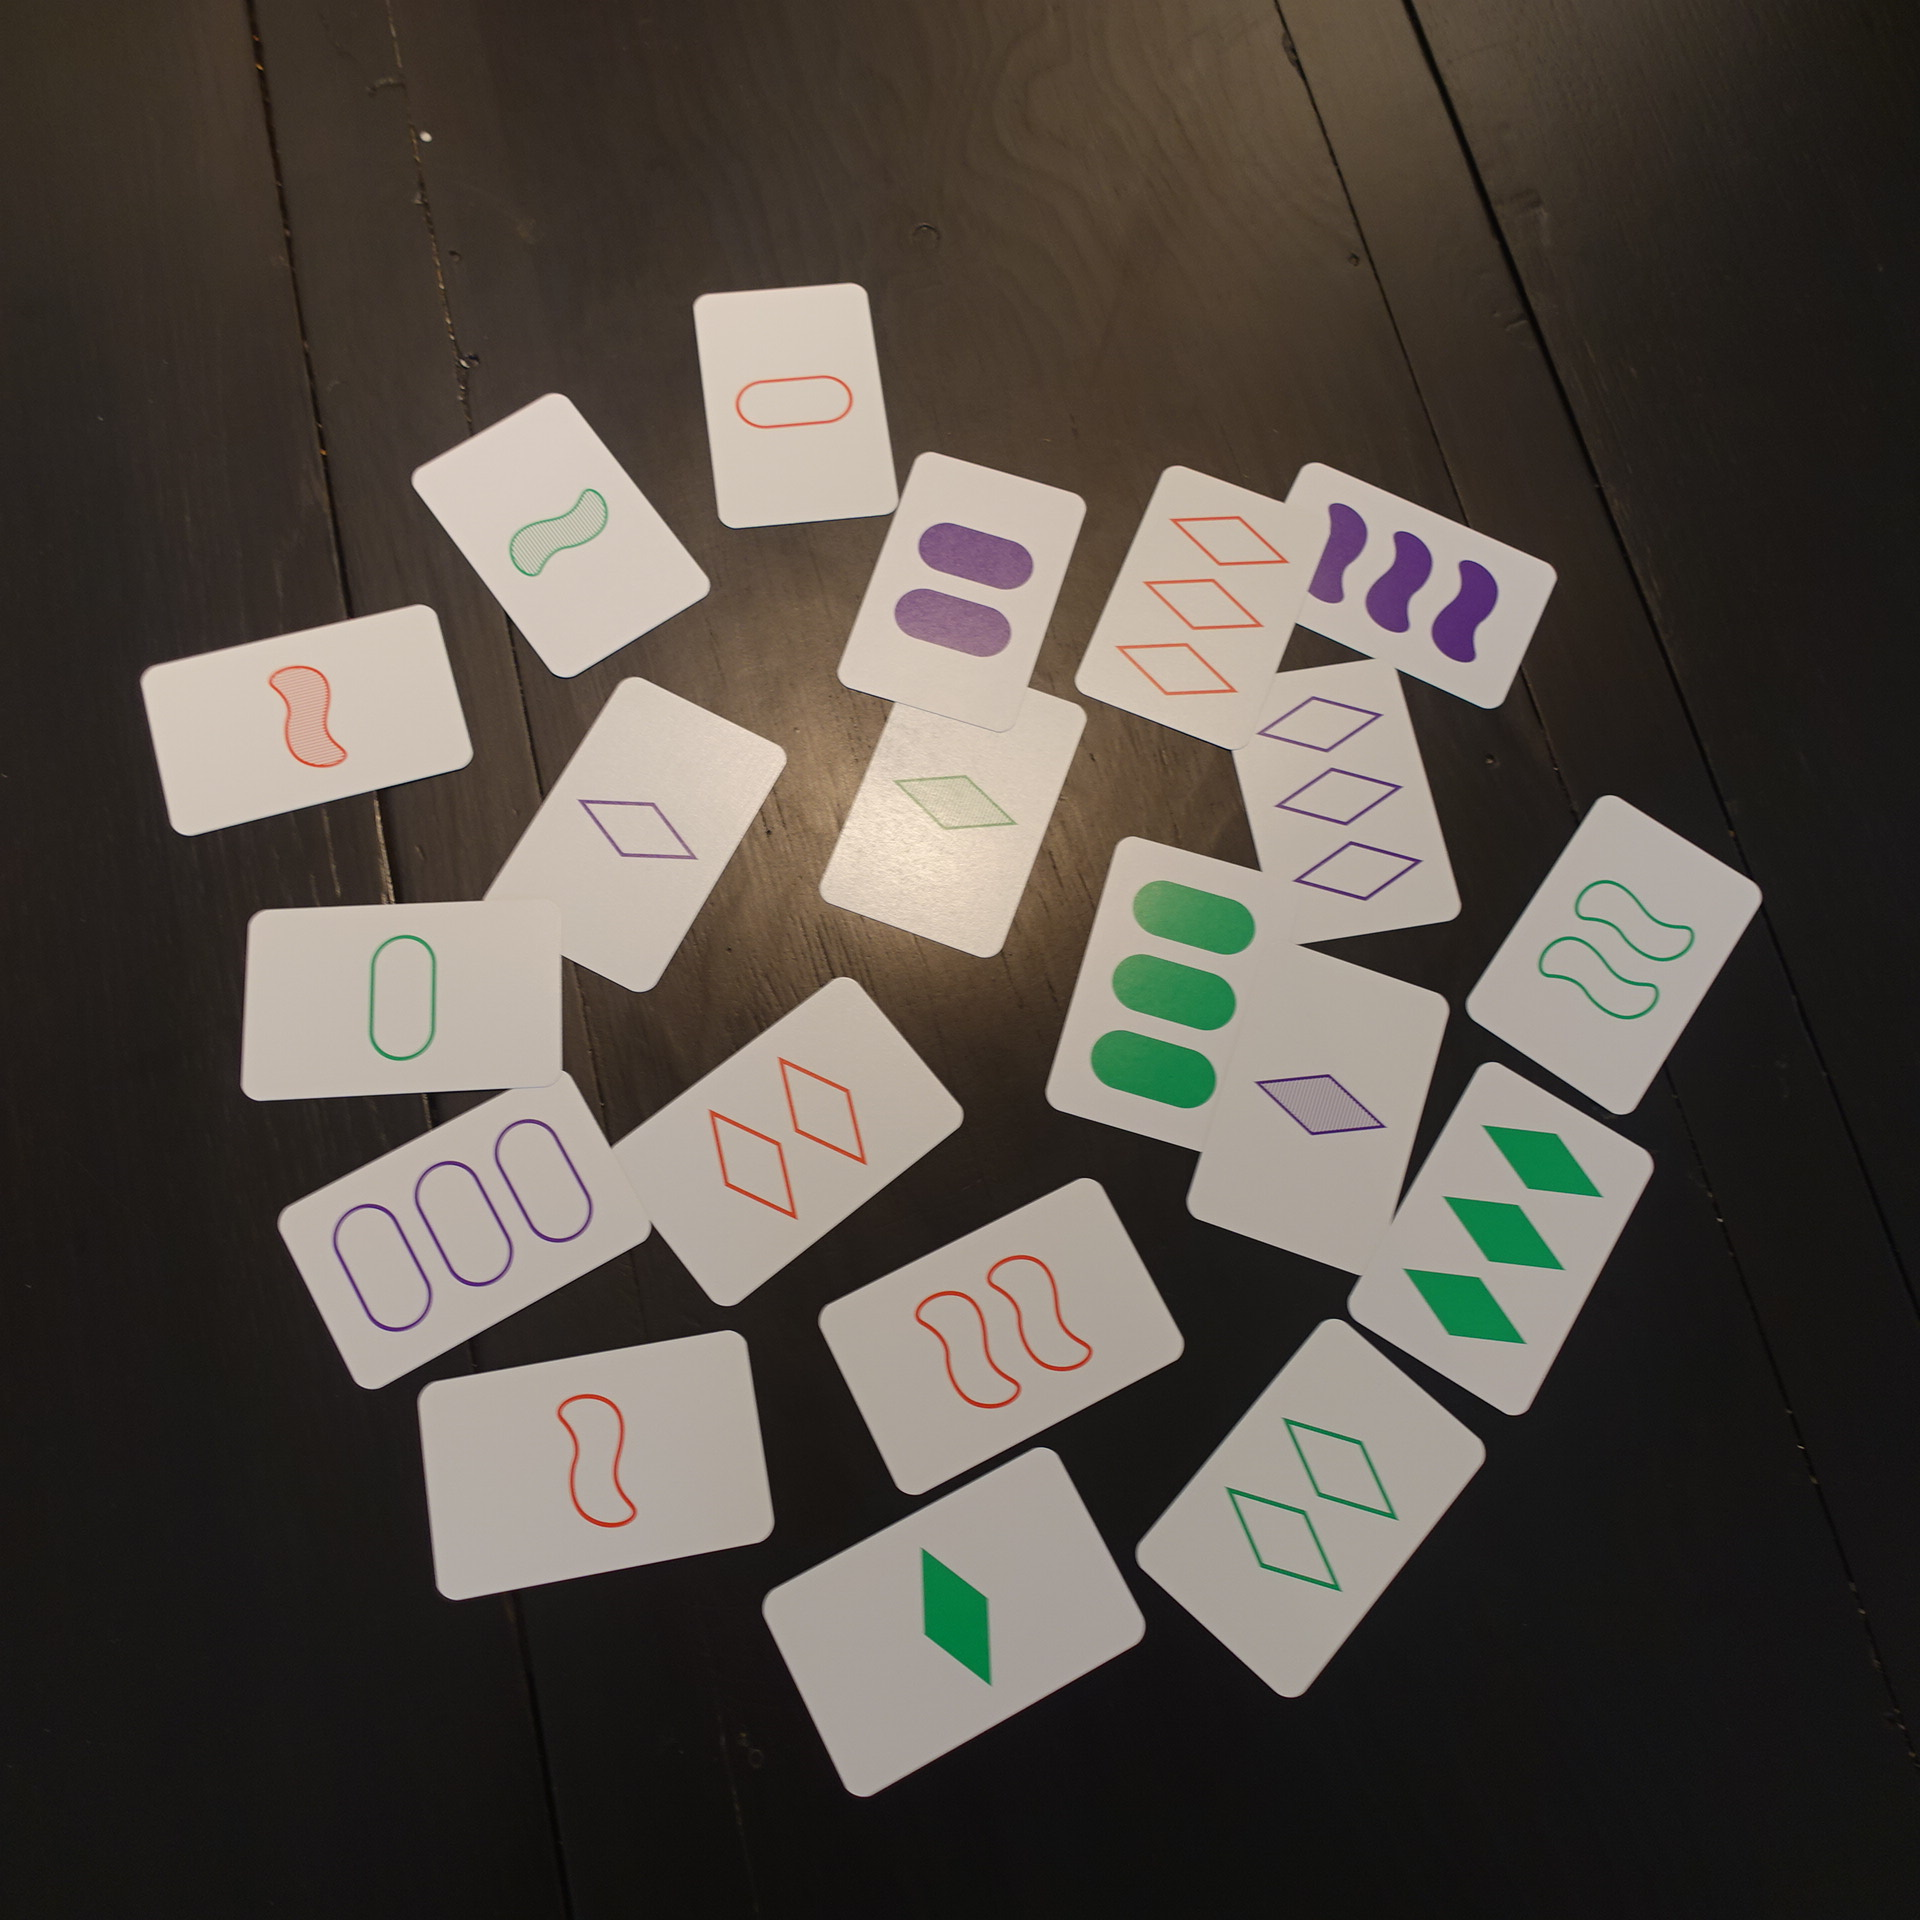c-1-f-d-r: (756, 1438, 1159, 1811)
c-1-h-d-r: (1183, 937, 1459, 1282), (812, 658, 1095, 967)
c-1-h-s-r: (401, 383, 723, 686), (132, 596, 480, 849)
c-1-u-d-r: (466, 668, 791, 1002)
c-1-u-o-r: (209, 891, 573, 1111), (673, 273, 905, 536)
c-1-u-s-r: (404, 1319, 782, 1605)
c-2-f-o-r: (828, 445, 1092, 740)
c-2-u-d-r: (1125, 1306, 1493, 1714), (596, 971, 979, 1320)
c-2-u-s-r: (809, 1169, 1194, 1505), (1452, 781, 1774, 1124)
c-3-f-d-r: (1336, 1051, 1667, 1428)
c-3-f-o-r: (1044, 826, 1312, 1162)
c-3-f-s-r: (1252, 454, 1565, 719)
c-3-u-d-r: (1069, 457, 1336, 761), (1199, 651, 1468, 951)
c-3-u-o-r: (267, 1062, 661, 1400)
